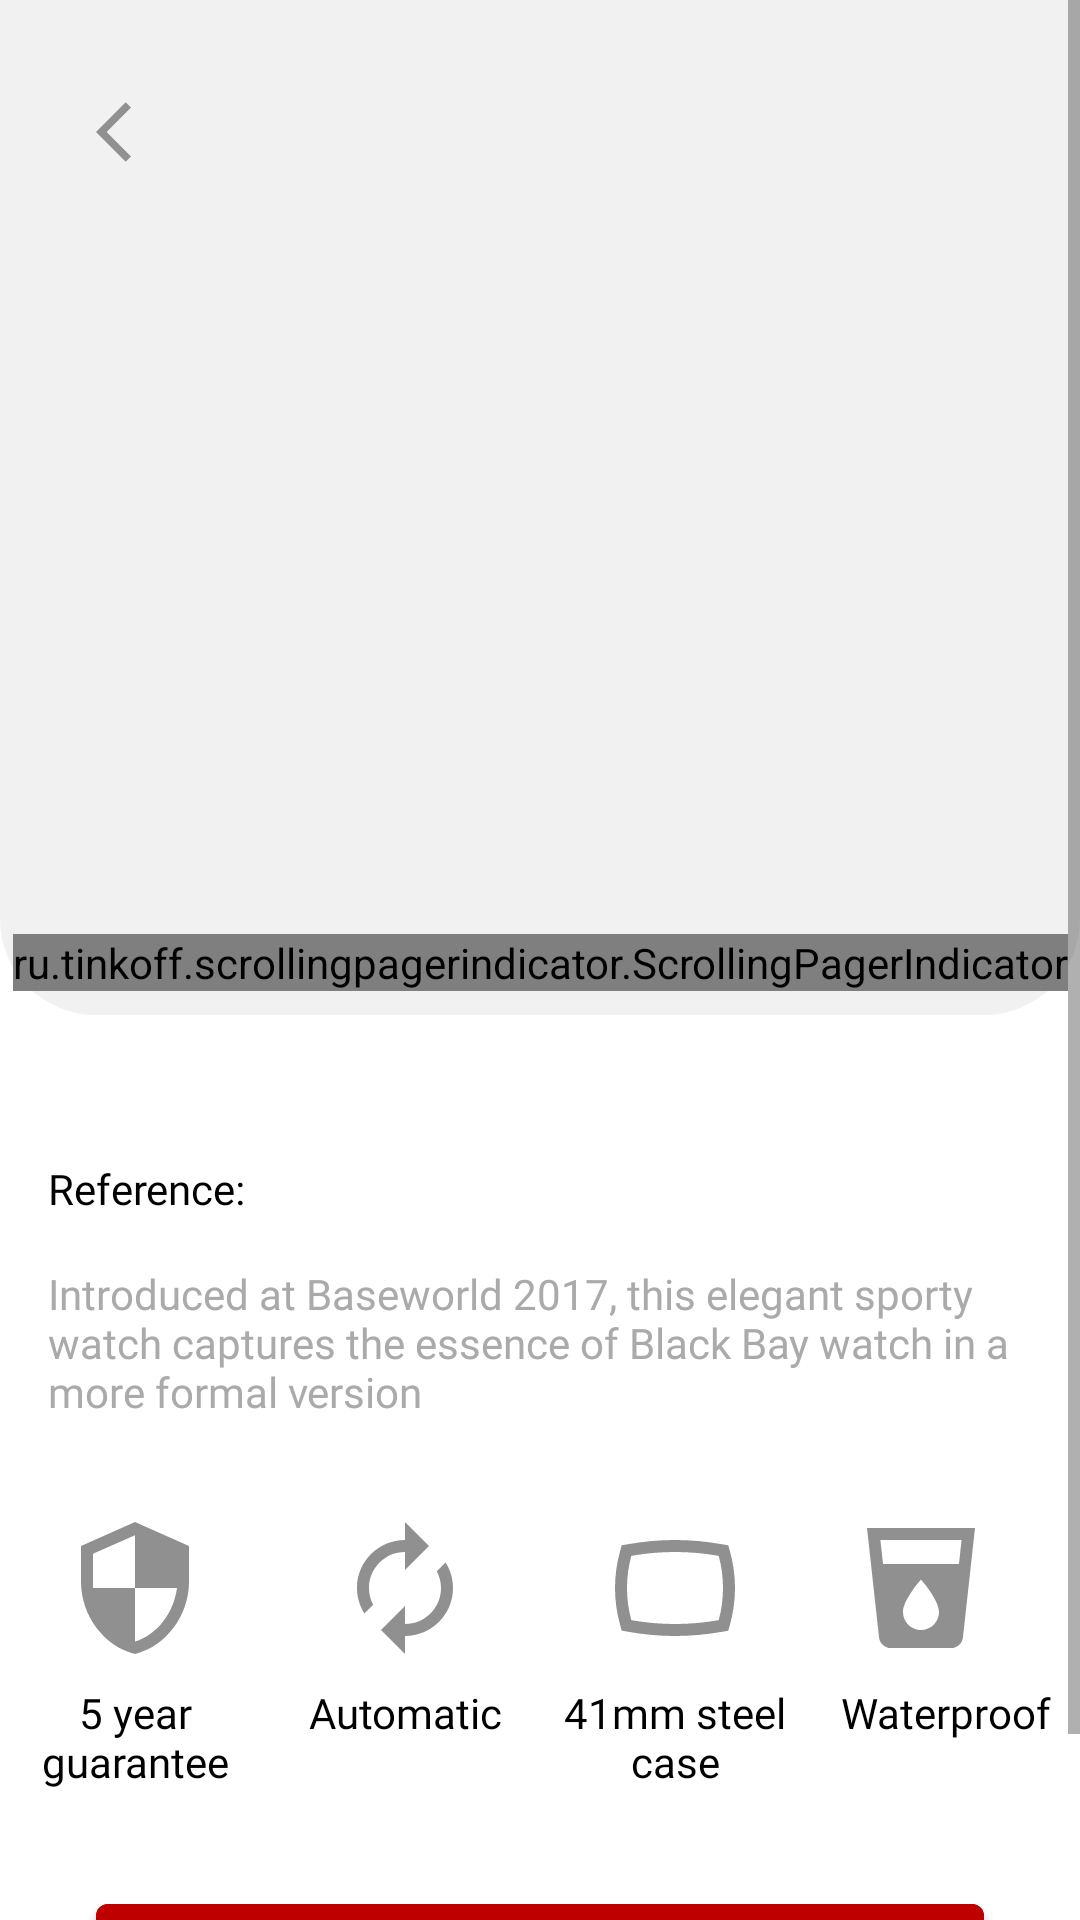

Point at icon controls on the screen. Image size 1080px x 1920px, points as [x,y].
autorenew: [405,1588]
Back: [113,132]
local drink: [921,1588]
panorama wide angle: [675,1588]
security: [135,1588]
